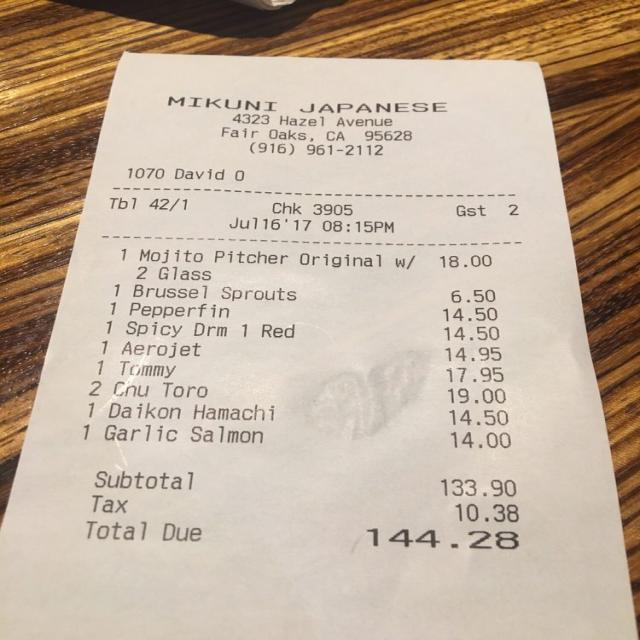TotalPrice: (82, 512, 529, 574)
